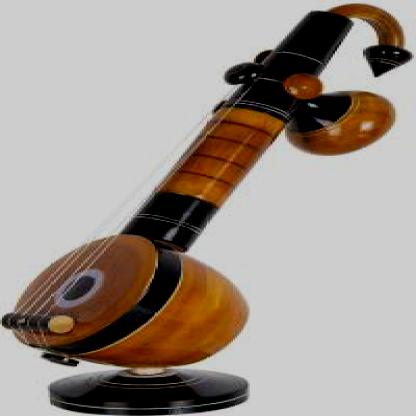Veena: (10, 57, 246, 378)
